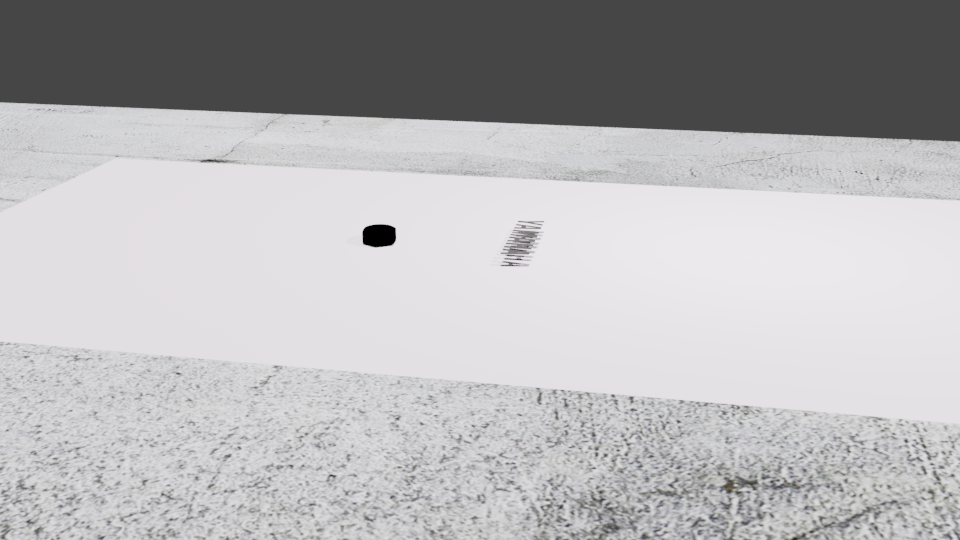yamaha_letters: (499, 219, 545, 255)
